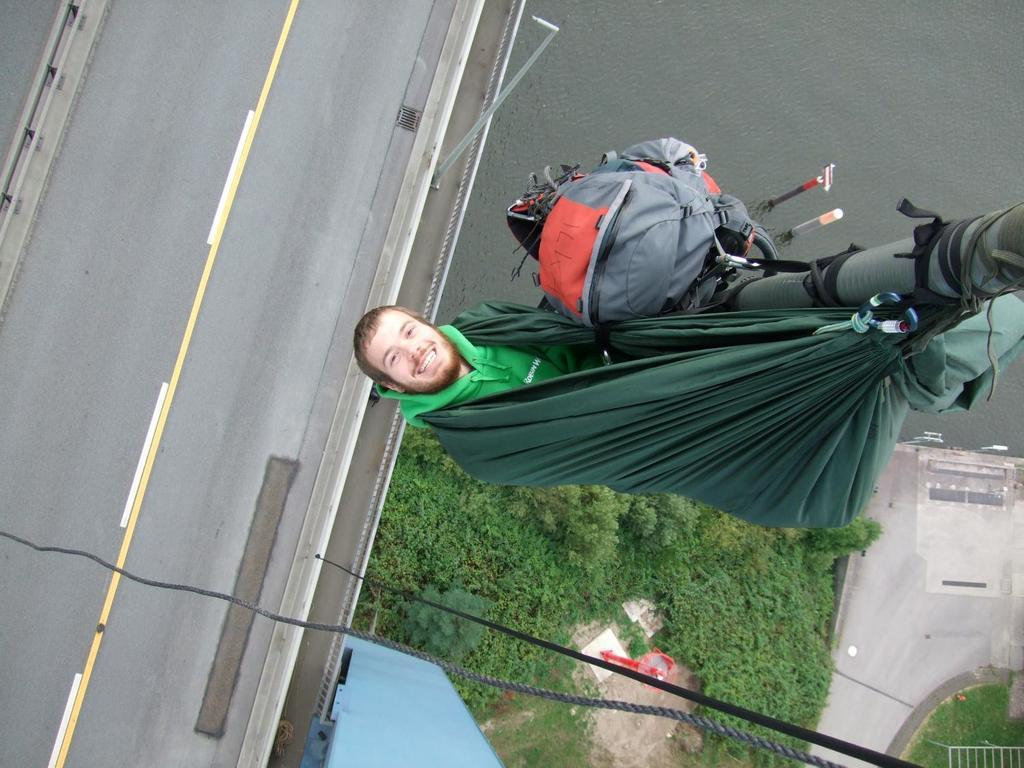Luggage-and-bags: (509, 152, 860, 371)
